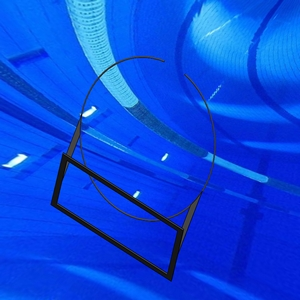circle: (50, 54, 218, 283)
